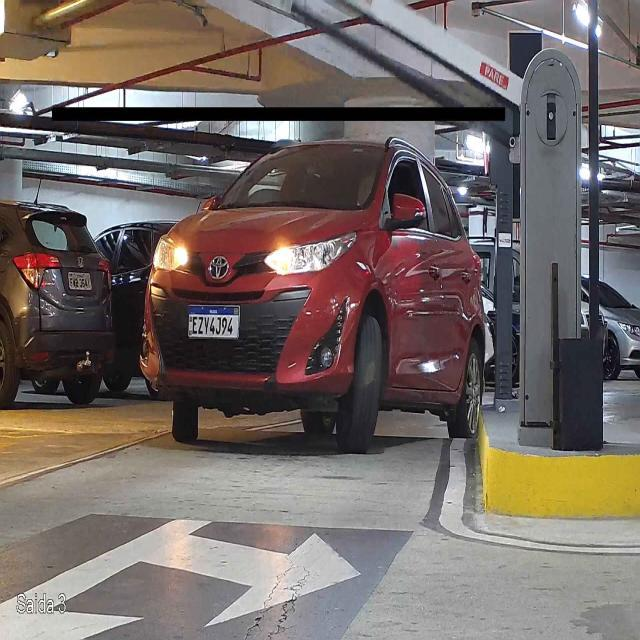mercosul_plate: (185, 304, 242, 341)
